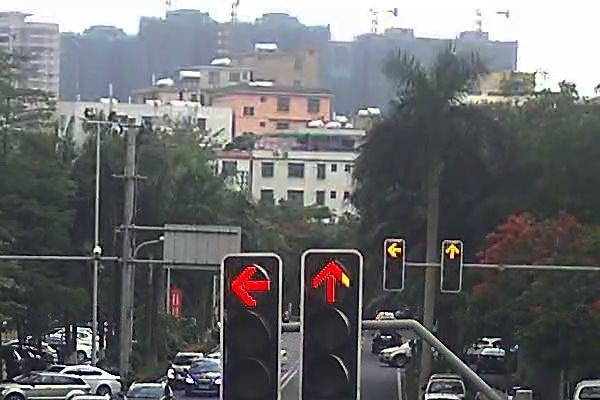redleft: (222, 256, 279, 308), (385, 239, 404, 259)
redstraight: (304, 253, 361, 305), (442, 241, 462, 263)
